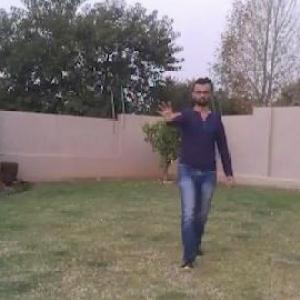follow_hand: (151, 94, 182, 126)
